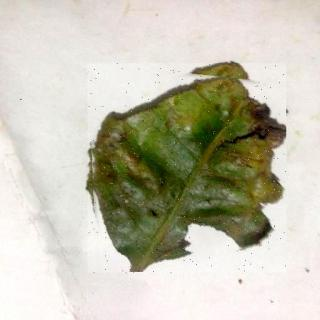Red Leaf Spot: (89, 65, 288, 275)
